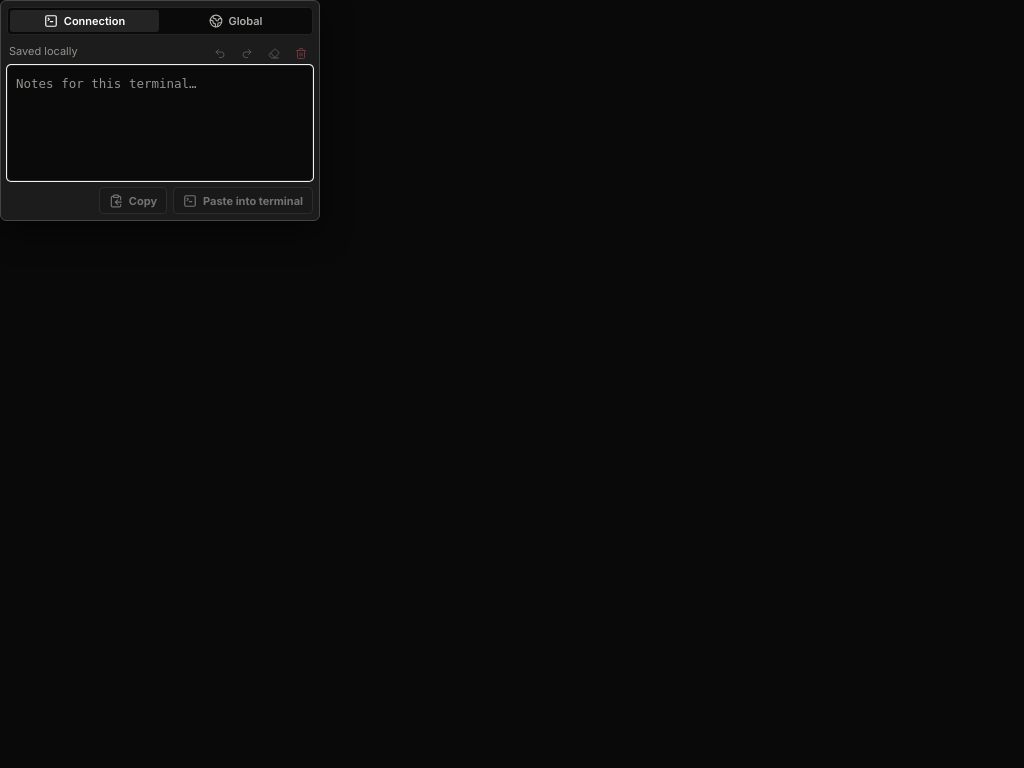
Test case: Scratchpad note editing › retains the latest fallback draft when SQLite autosave fails and retries it
In the text box named "Connection note": (160,123) [7, 65, 313, 181], type "Do not lose this"
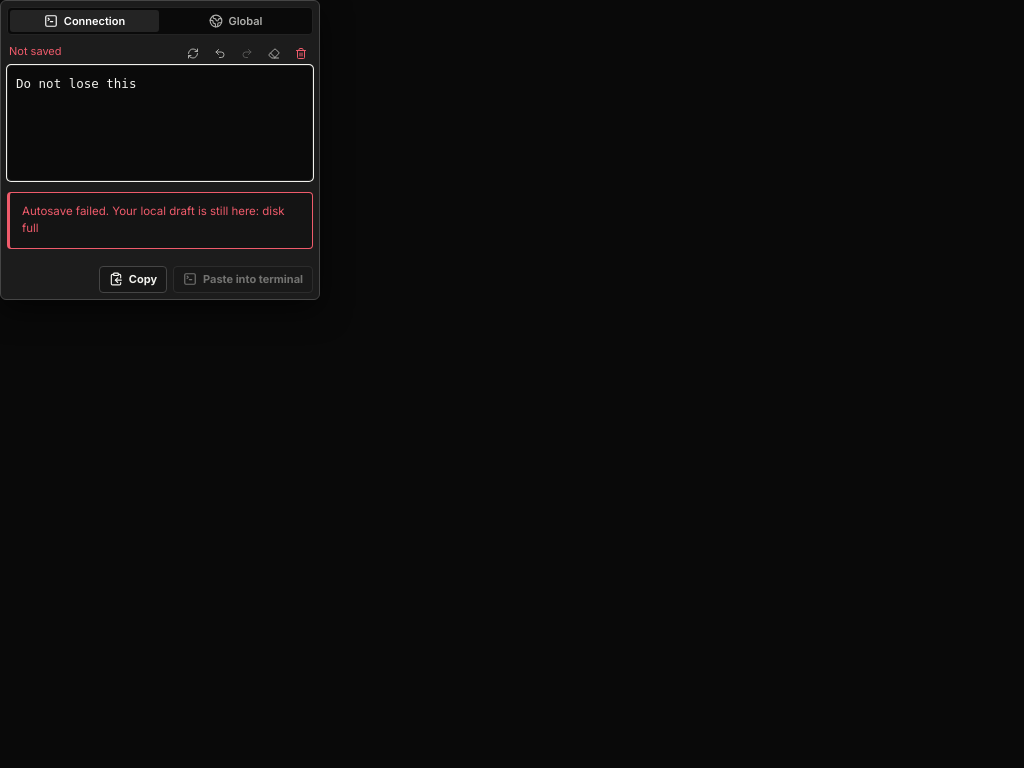
Now the text "Autosave failed. Your local draft is still here: disk full" is shown, box [7, 192, 313, 248]
Click the button named "Retry save": (193,53) [181, 41, 205, 65]
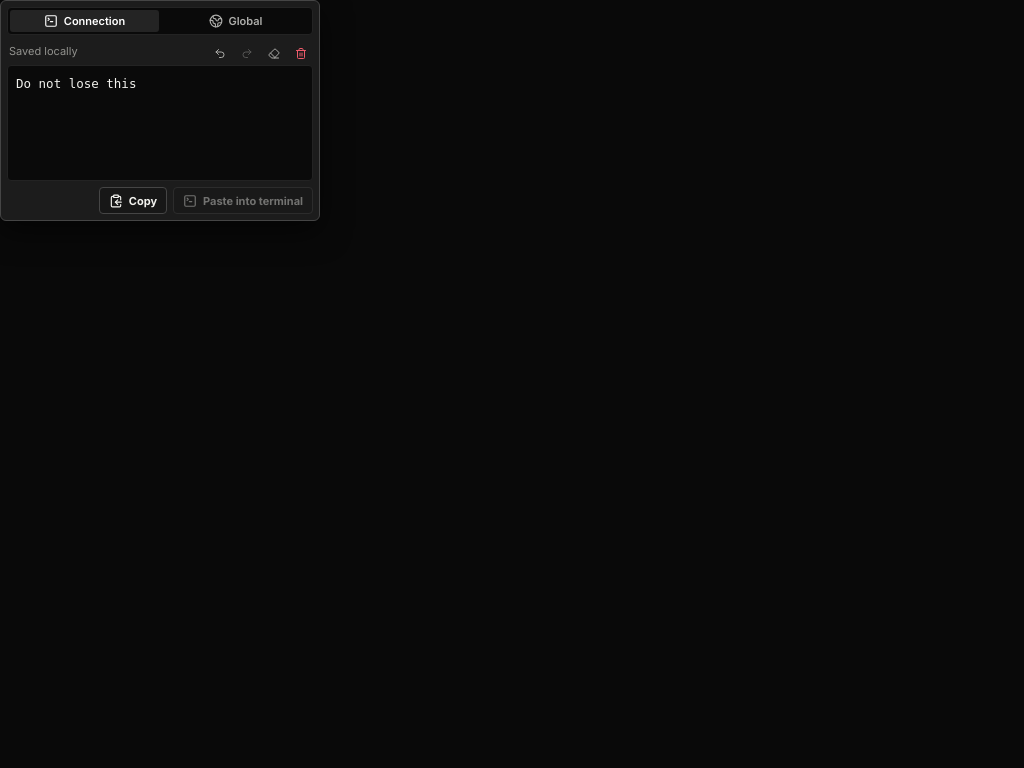
Now the text "Saved locally" is shown, box [7, 43, 80, 63]
